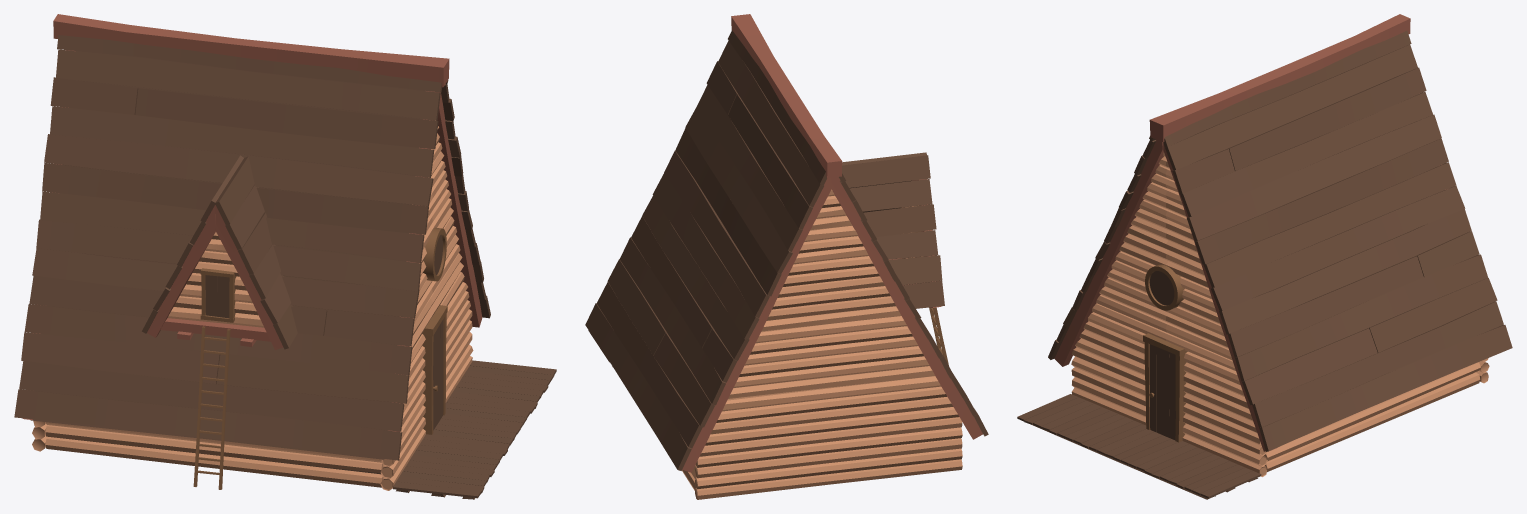
Rendered from LowHouse.fbx.
3 views of the same model, side by side, from view 1: azimuth 30°, elevation 25°; view 2: azimuth 150°, elevation 25°; view 3: azimuth 270°, elevation 25° (orthographic). The views are drawn at different scales.
Parts seen in each view (by area): view 1: HouseSide01, HouseBase, HouseWindw, HouseFront, HouseSide02; view 2: HouseSide02, HouseBack, HouseWindw, HouseSide01, HouseBase; view 3: HouseSide02, HouseFront, HouseBase, HouseSide01.
Part boxes in pixels (<box>): HouseSide01: <box>14,35,441,487</box>; HouseBase: <box>30,14,556,499</box>; HouseWindw: <box>142,155,297,489</box>; HouseFront: <box>380,120,473,490</box>; HouseSide02: <box>437,80,490,327</box>; HouseSide02: <box>585,30,831,490</box>; HouseBack: <box>695,189,962,499</box>; HouseWindw: <box>842,152,948,365</box>; HouseSide01: <box>831,173,988,439</box>; HouseBase: <box>588,14,842,362</box>; HouseSide02: <box>1163,30,1512,471</box>; HouseFront: <box>1071,153,1267,476</box>; HouseBase: <box>1017,14,1472,499</box>; HouseSide01: <box>1048,136,1163,366</box>.
Size of the model in its own units: 1135 by 812 by 1133.
